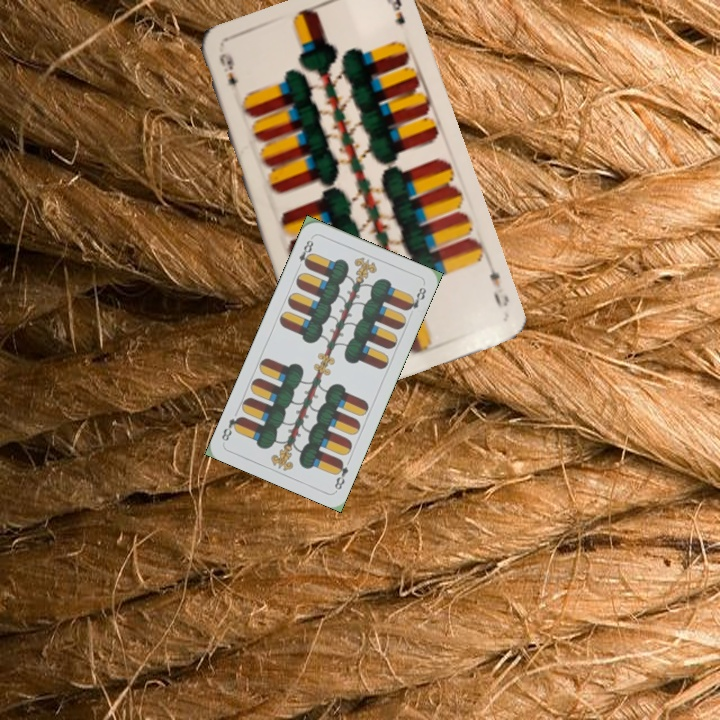E8: (293, 233, 316, 272), (330, 455, 351, 492)
E9: (484, 259, 512, 311), (215, 49, 240, 90)
